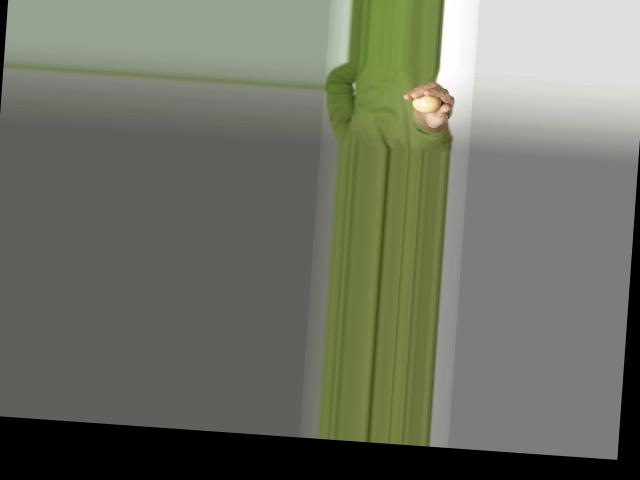egg: (411, 94, 441, 113)
